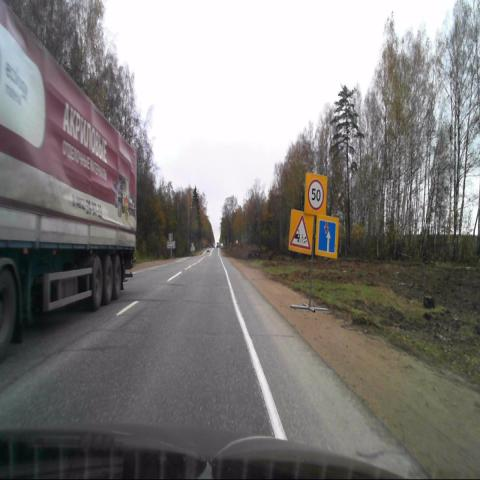1_18: (288, 208, 312, 256)
2_7: (316, 217, 338, 259)
